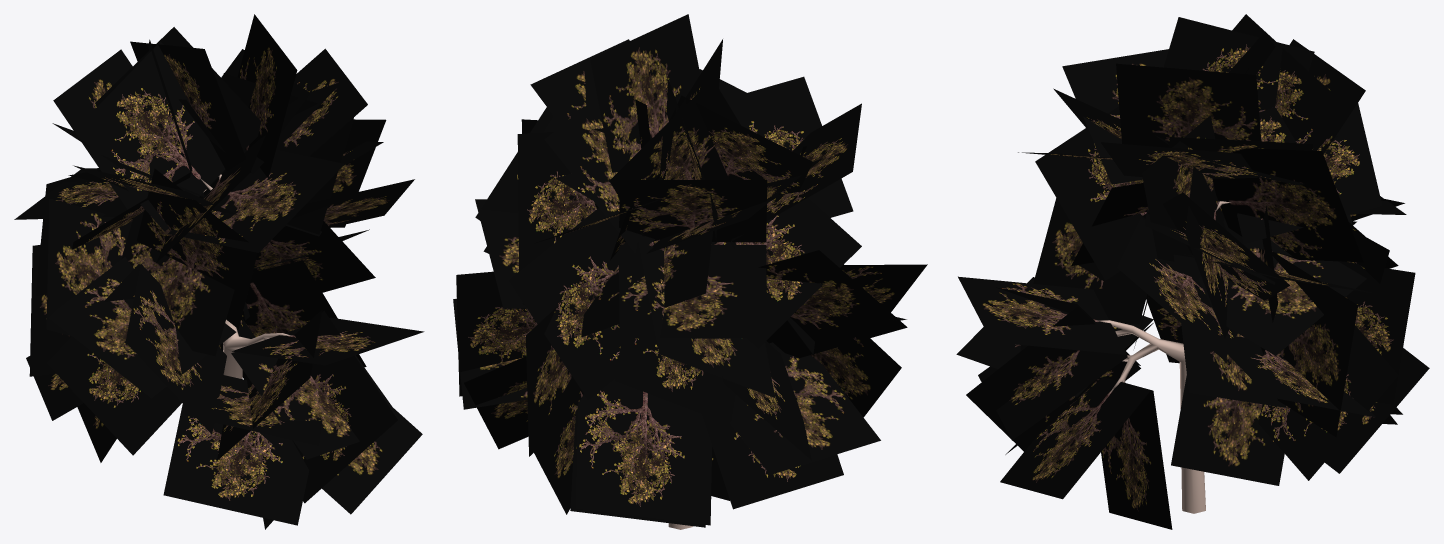
Rendered from tree48.glb.
3 views of the same model, side by side, from view 1: azimuth 30°, elevation 25°; view 2: azimuth 150°, elevation 25°; view 3: azimuth 270°, elevation 25° (orthographic). The views are drawn at different scales.
Bounding box in the file's own units: 6.28 × 7.42 × 6.6.
Materials: 2 (1 with a texture image).
